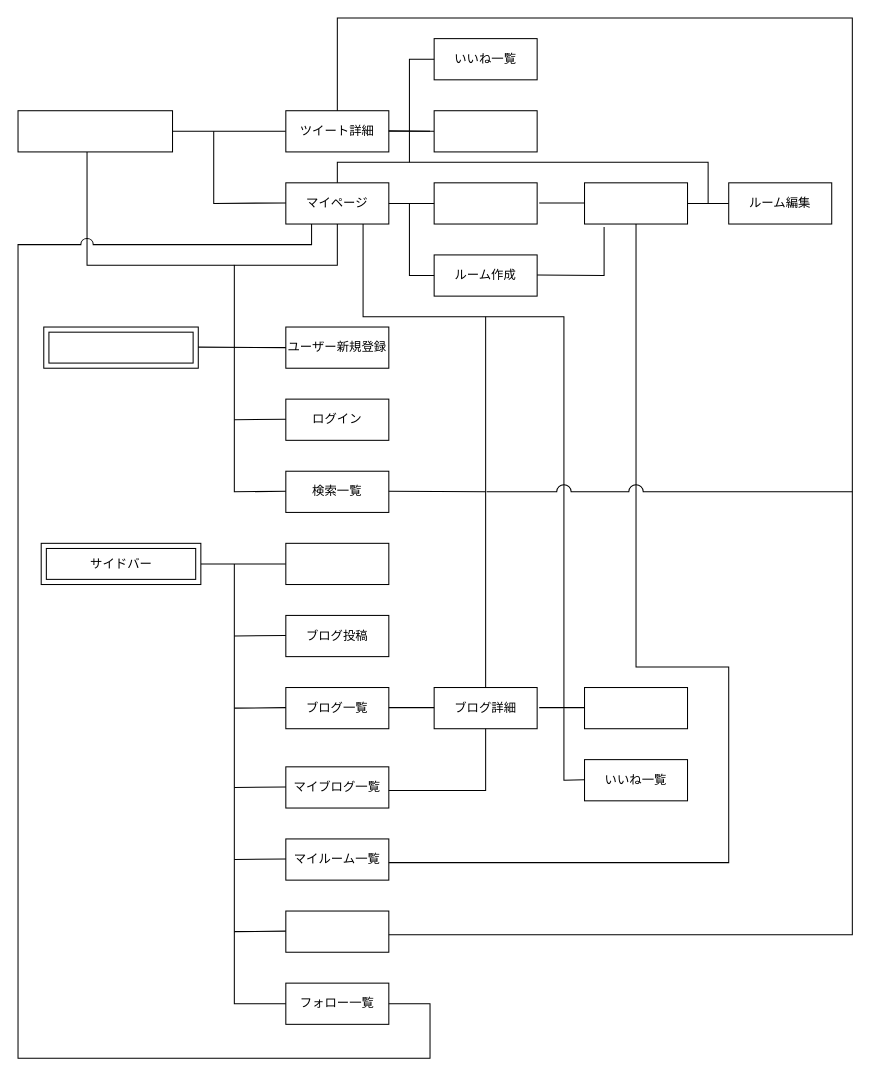
Image size: 871x1077. Some labels were removed from this diagram. The centre of each missing label's shape, as x and y in pixels:
"ツイート投稿" goes at (x=337, y=563).
"ツイート編集" goes at (x=485, y=131).
"トップページ （ツイート一覧ページ）" goes at (x=95, y=131).
"ブログ編集" goes at (x=635, y=707).
"ヘッダー" goes at (x=120, y=347).
"マイツイート一覧" goes at (x=337, y=931).
"マイページ編集" goes at (x=485, y=203).
"ルーム詳細" goes at (x=635, y=203).
